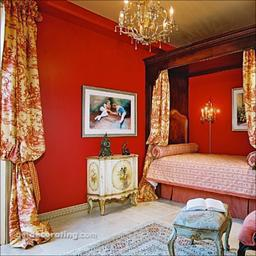Cama: (148, 57, 255, 216)
